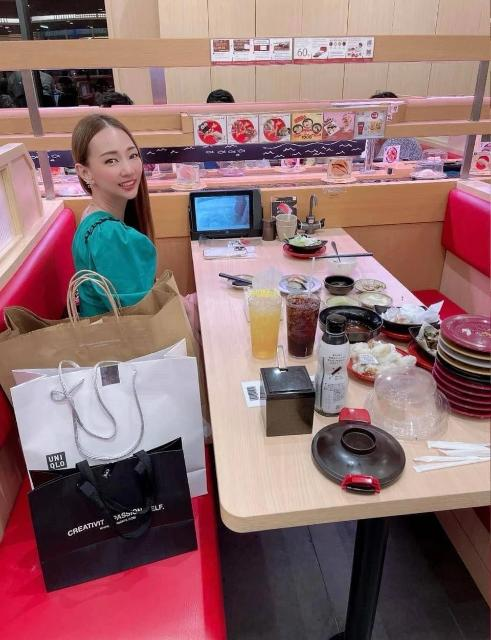janback: (442, 365, 491, 385)
jangold: (454, 362, 491, 375), (457, 347, 491, 361)
janred: (352, 350, 401, 380), (439, 315, 491, 343), (279, 243, 331, 259), (379, 319, 415, 342), (409, 344, 439, 370), (461, 411, 491, 422), (460, 389, 491, 398), (457, 402, 491, 410), (460, 382, 491, 390), (460, 397, 491, 403)
janwhite: (276, 275, 320, 294), (459, 355, 491, 368)
